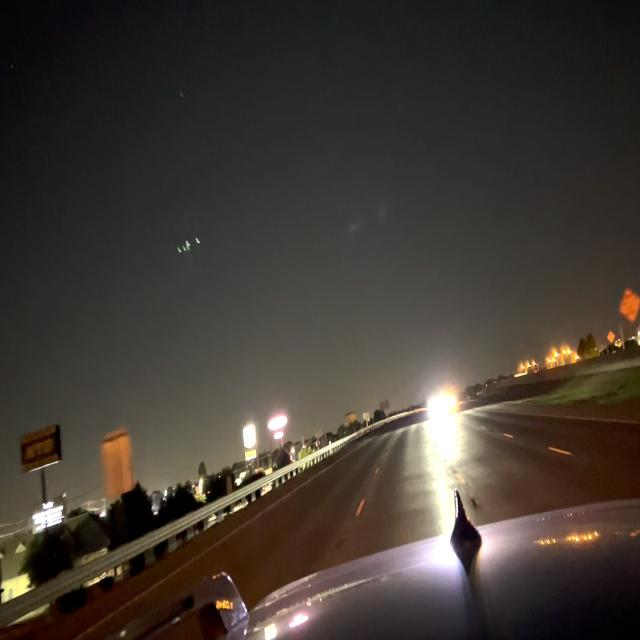back-of-sign: (102, 425, 136, 501)
